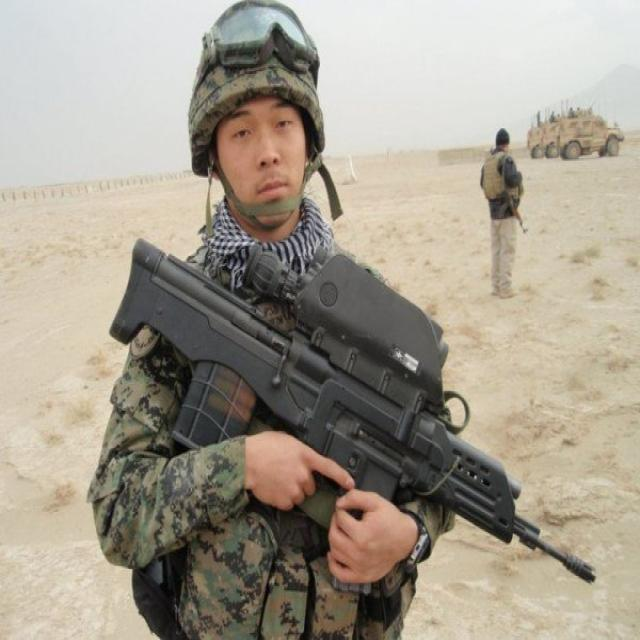firearm: (104, 237, 598, 598)
